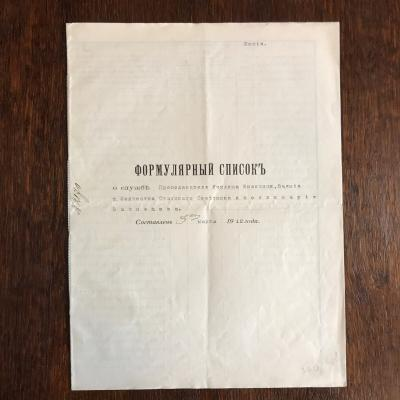document: (64, 22, 347, 392)
